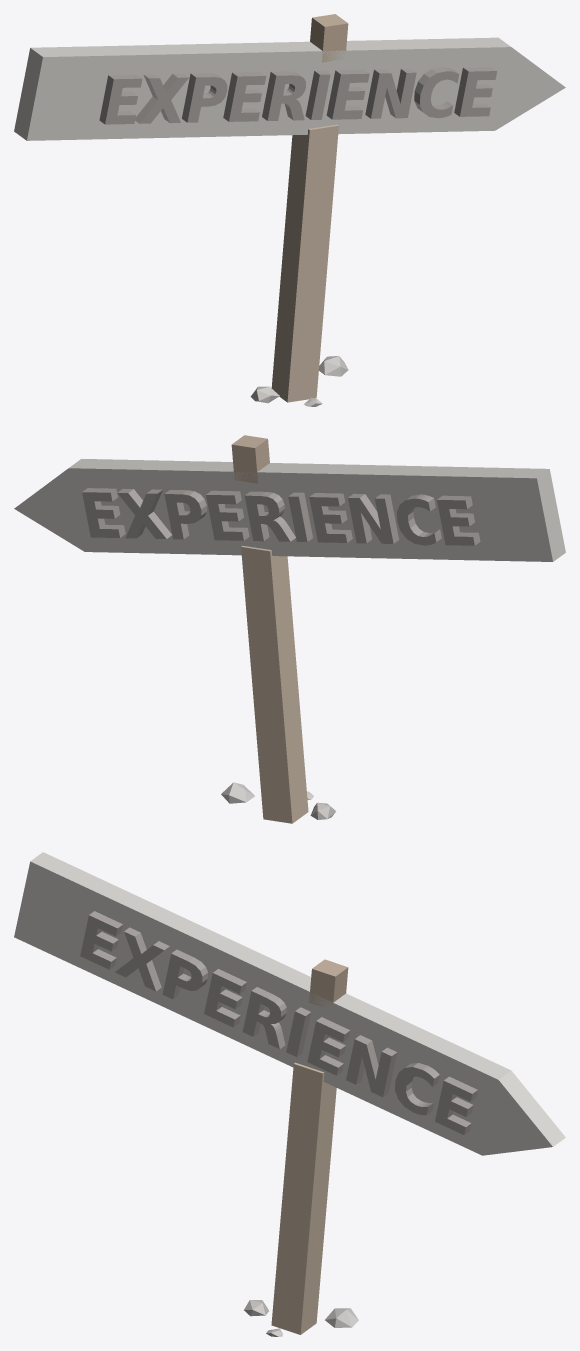
Rendered from signboard_experience_refined.glb.
3 renders of one model, top to bottom at view 1: azimuth 30°, elevation 25°; view 2: azimuth 150°, elevation 25°; view 3: azimuth 330°, elevation 25°, orthographic.
Visible parts, largest first — view 1: g0, g8, g3, g1, g4; view 2: g0, g9, g3, g1, g4, g6; view 3: g0, g8, g3, g1, g4.
Boxes of the visible parts, <box> form: g0: <box>14,37,511,140</box>; g8: <box>99,67,497,124</box>; g3: <box>271,124,338,402</box>; g1: <box>495,47,565,130</box>; g4: <box>310,14,348,62</box>; g0: <box>68,459,565,561</box>; g9: <box>82,488,480,545</box>; g3: <box>241,545,308,823</box>; g1: <box>14,468,84,551</box>; g4: <box>231,435,269,483</box>; g6: <box>221,782,254,803</box>; g0: <box>14,852,510,1155</box>; g8: <box>80,911,477,1134</box>; g3: <box>271,1062,336,1334</box>; g1: <box>482,1070,565,1155</box>; g4: <box>309,959,348,1008</box>.
Size of the model in its own units: 1.94 by 1.39 by 0.2181.
